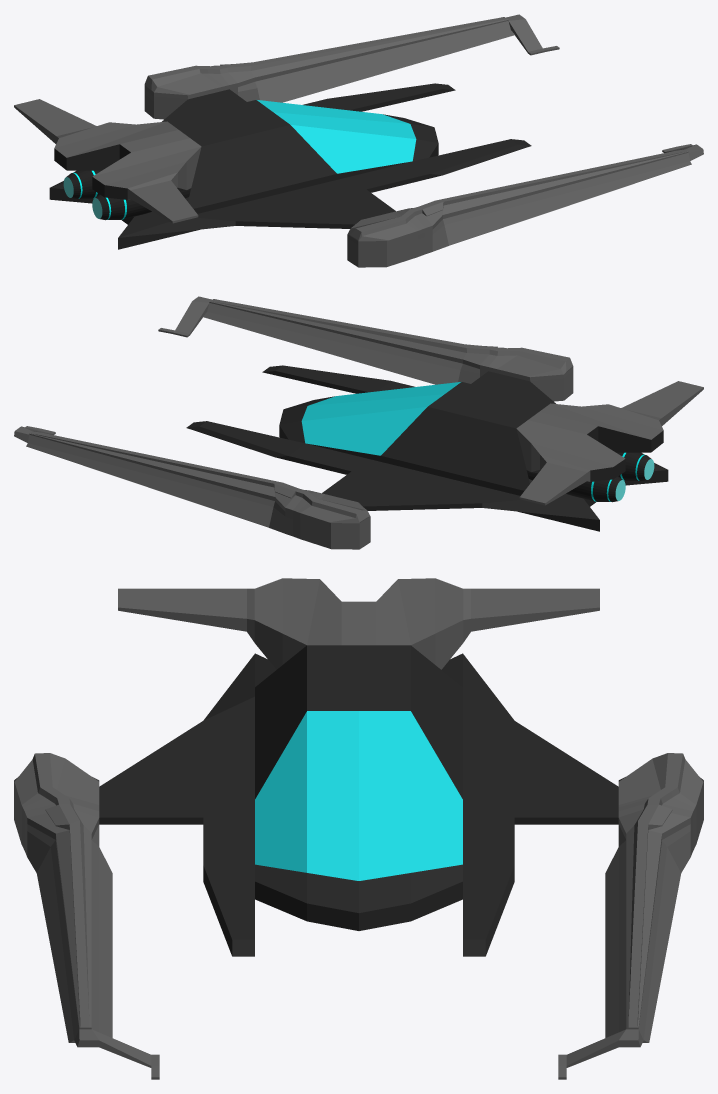
File: Lacerace_01.fbx
3 views of the same model, one above another, from view 1: azimuth 30°, elevation 25°; view 2: azimuth 150°, elevation 25°; view 3: azimuth 270°, elevation 25° (orthographic). The views are drawn at different scales.
Parts seen in each view (by area): view 1: ShipBody; view 2: ShipBody; view 3: ShipBody.
Boxes of the visible parts, x1,y1,x2,y2 form: ShipBody: [14, 14, 703, 267]; ShipBody: [14, 296, 703, 549]; ShipBody: [14, 578, 703, 1079].
Size of the model in its own units: 1843 by 235 by 1329.
